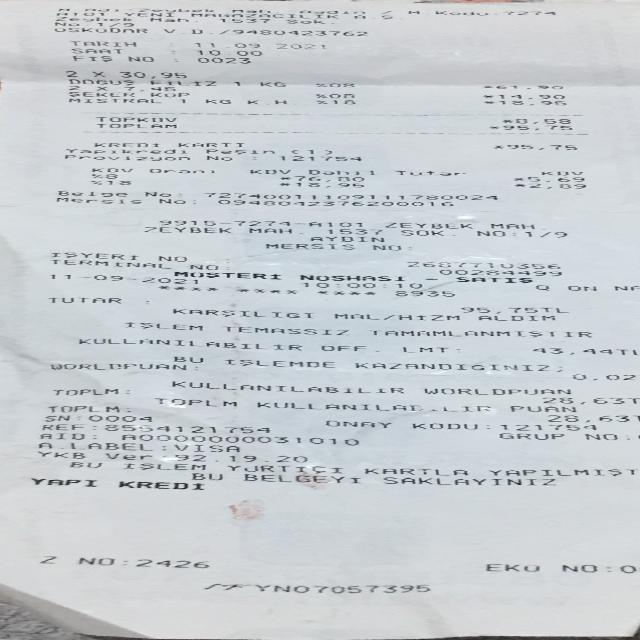text: (79, 334, 298, 350), (256, 398, 487, 413), (172, 379, 402, 394), (120, 432, 356, 446), (354, 359, 546, 373), (203, 192, 497, 200), (382, 474, 550, 487), (49, 271, 199, 285), (424, 384, 567, 397), (488, 466, 629, 479), (105, 422, 268, 433), (368, 329, 588, 337), (225, 322, 346, 336), (218, 199, 453, 206), (173, 308, 315, 319), (163, 452, 302, 463), (406, 259, 556, 269), (244, 472, 358, 484), (314, 582, 427, 594), (227, 462, 338, 474), (224, 356, 331, 368), (365, 464, 465, 476), (49, 362, 179, 371), (51, 259, 167, 269), (231, 28, 370, 36), (194, 41, 324, 49), (174, 269, 277, 279), (299, 272, 402, 282), (203, 582, 306, 592), (527, 346, 639, 355), (64, 153, 188, 161), (54, 250, 136, 262), (439, 268, 560, 276), (119, 478, 199, 490), (498, 422, 593, 432), (301, 280, 419, 288), (159, 219, 286, 226), (71, 440, 151, 451), (155, 397, 233, 408), (121, 461, 206, 471), (64, 147, 184, 154), (546, 413, 639, 422), (118, 321, 201, 331), (137, 557, 204, 569), (264, 241, 352, 250), (384, 220, 470, 229), (29, 476, 92, 488), (545, 396, 638, 404), (510, 403, 573, 414), (56, 196, 142, 204), (58, 188, 126, 198), (54, 26, 146, 33), (411, 420, 475, 430), (46, 295, 117, 304), (399, 310, 457, 321), (68, 96, 158, 103), (325, 419, 388, 429), (46, 404, 115, 413), (172, 442, 234, 452), (144, 225, 231, 232), (119, 70, 184, 79), (277, 154, 360, 161), (190, 14, 335, 18), (68, 77, 132, 86), (497, 431, 561, 440), (477, 314, 559, 321), (394, 288, 451, 298), (88, 413, 150, 422), (293, 174, 362, 182), (306, 167, 374, 175), (395, 168, 462, 176), (50, 388, 117, 396), (460, 306, 536, 313), (70, 39, 134, 47), (196, 48, 260, 56), (149, 78, 213, 86), (573, 372, 636, 380), (486, 562, 536, 572), (93, 116, 175, 122), (295, 181, 362, 188), (55, 15, 131, 21), (498, 99, 563, 106), (39, 430, 80, 441), (197, 55, 247, 64), (68, 90, 132, 97), (456, 277, 530, 283), (104, 450, 148, 460), (308, 236, 381, 242), (500, 124, 571, 130), (295, 8, 365, 14), (38, 450, 80, 460), (204, 148, 272, 154), (324, 341, 361, 352), (70, 46, 120, 54), (527, 284, 593, 290), (96, 122, 175, 127), (497, 93, 562, 99), (148, 167, 213, 173), (402, 344, 441, 354), (309, 220, 364, 227), (326, 228, 381, 235), (42, 421, 80, 431), (138, 7, 213, 12), (162, 355, 199, 365), (516, 117, 568, 124), (58, 6, 117, 12), (250, 226, 294, 234), (562, 562, 594, 573), (495, 84, 562, 89), (526, 176, 581, 182), (488, 222, 534, 229), (68, 54, 114, 61), (192, 471, 220, 482), (250, 166, 288, 174), (80, 555, 110, 565), (503, 10, 552, 16), (218, 17, 267, 23), (334, 313, 376, 320), (528, 183, 584, 188), (56, 10, 102, 16), (124, 11, 170, 17), (399, 230, 444, 236), (91, 142, 156, 146), (149, 91, 186, 98), (176, 142, 240, 146), (584, 432, 616, 440), (524, 231, 566, 237), (244, 98, 285, 104), (90, 166, 130, 172), (149, 16, 186, 22), (74, 460, 96, 470), (432, 10, 486, 14), (158, 254, 182, 263), (189, 262, 213, 271), (292, 149, 334, 154), (373, 242, 399, 250), (161, 28, 202, 33), (476, 229, 501, 237), (126, 54, 150, 62), (260, 79, 284, 87), (542, 306, 566, 314), (44, 414, 68, 422), (612, 284, 639, 291), (98, 21, 132, 26), (206, 154, 230, 161), (144, 190, 168, 197), (230, 8, 271, 12), (352, 14, 393, 18), (540, 170, 580, 174), (158, 198, 183, 204), (286, 18, 322, 22), (204, 98, 227, 104), (146, 86, 173, 91), (620, 563, 633, 573), (54, 21, 78, 26), (64, 68, 76, 78), (328, 92, 352, 97), (550, 144, 574, 149), (90, 69, 102, 78), (384, 310, 394, 320), (328, 82, 352, 86), (506, 144, 530, 148), (330, 99, 354, 103), (105, 180, 128, 184), (40, 554, 49, 563), (104, 172, 115, 178), (121, 404, 128, 413), (68, 84, 78, 90), (90, 172, 100, 178), (294, 221, 306, 226), (424, 276, 436, 281), (92, 432, 98, 442), (40, 440, 46, 449), (163, 442, 169, 451), (314, 92, 324, 97), (512, 176, 522, 181), (278, 181, 288, 186), (122, 85, 132, 90), (484, 99, 492, 105), (502, 116, 510, 122), (280, 175, 288, 181), (190, 363, 196, 371), (96, 85, 105, 90), (407, 10, 417, 14), (316, 99, 324, 104), (482, 84, 490, 89), (492, 144, 502, 148), (90, 180, 100, 184), (514, 183, 522, 188), (374, 342, 378, 352), (314, 82, 324, 86), (488, 125, 498, 129), (170, 57, 177, 62), (146, 297, 150, 305), (124, 387, 128, 395), (168, 50, 176, 54), (122, 556, 125, 566), (382, 10, 389, 14), (234, 79, 238, 86), (92, 424, 96, 431), (167, 42, 174, 46), (179, 97, 183, 103), (606, 563, 608, 573), (512, 229, 514, 238), (538, 144, 542, 148), (76, 414, 78, 422), (494, 10, 496, 15), (456, 344, 457, 354), (178, 190, 179, 198), (192, 197, 193, 205), (252, 154, 253, 161)
